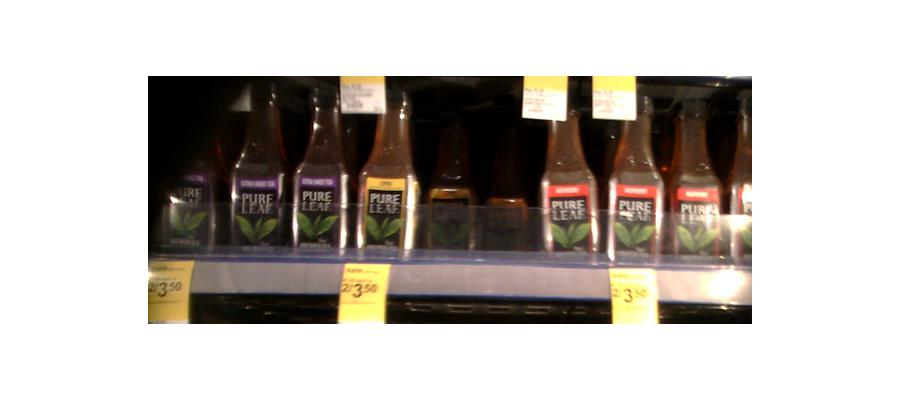bottle: (602, 89, 666, 262), (154, 94, 221, 252), (356, 85, 417, 255), (234, 73, 290, 249), (294, 83, 352, 251), (668, 84, 720, 262), (542, 96, 600, 254), (426, 112, 476, 262), (483, 124, 534, 254), (724, 90, 758, 270)
